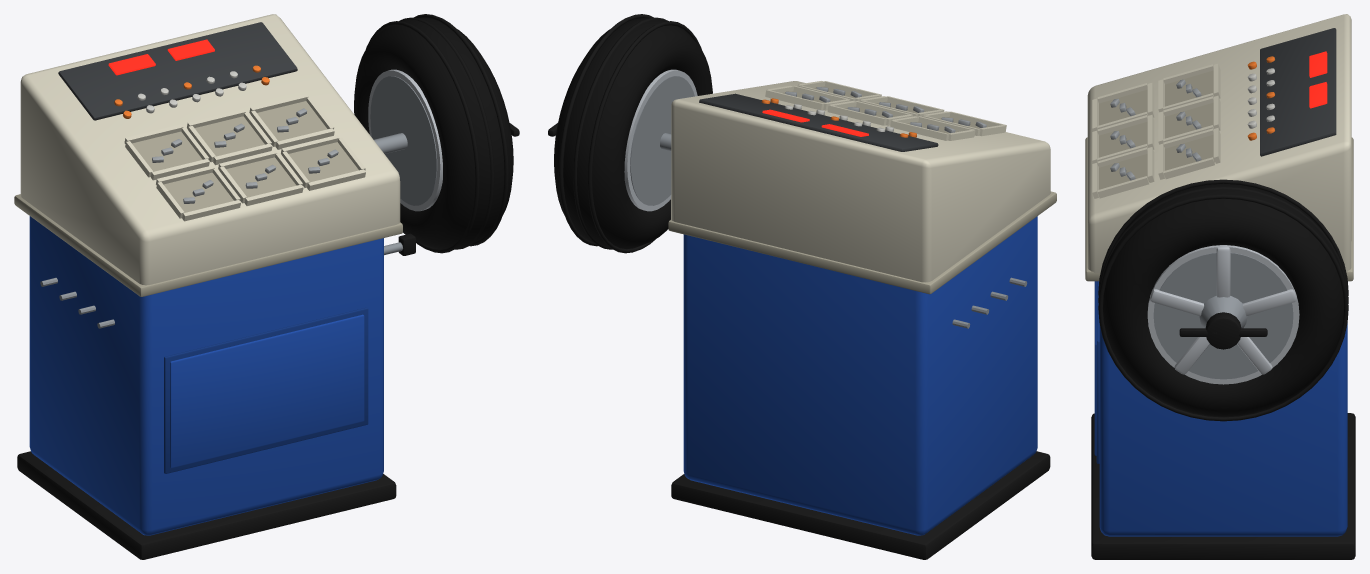
The model's file is wheel-balancer.glb.
3 views of the same model, side by side, from view 1: azimuth 30°, elevation 25°; view 2: azimuth 150°, elevation 25°; view 3: azimuth 270°, elevation 25° (orthographic). The views are drawn at different scales.
Parts seen in each view (by area): view 1: Body, Wheel; view 2: Body, Wheel; view 3: Body, Wheel.
Boxes of the visible parts, x1,y1,x2,y2 form: Body: [14, 14, 415, 559]; Wheel: [354, 14, 519, 253]; Body: [660, 81, 1056, 559]; Wheel: [548, 14, 712, 253]; Body: [1085, 14, 1355, 559]; Wheel: [1098, 179, 1348, 421].
Size of the model in its own units: 1.31 by 1.17 by 0.6753.
